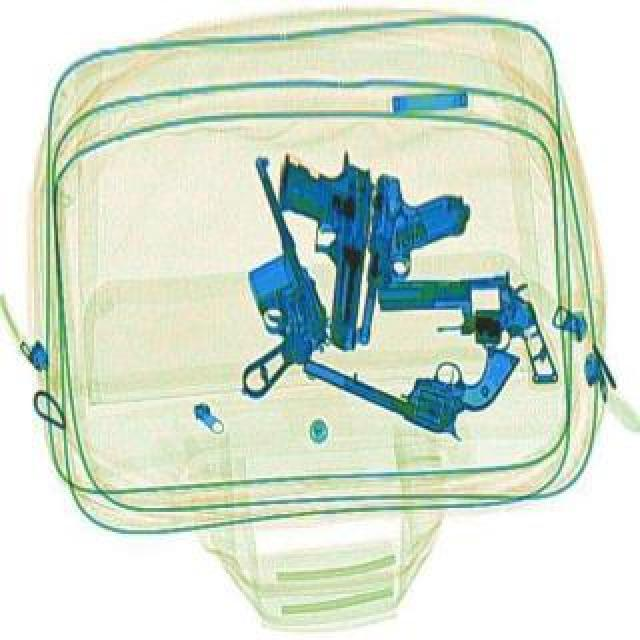gun: (160, 150, 350, 398), (296, 276, 520, 450), (258, 140, 378, 352), (352, 168, 476, 354), (374, 266, 558, 386)
